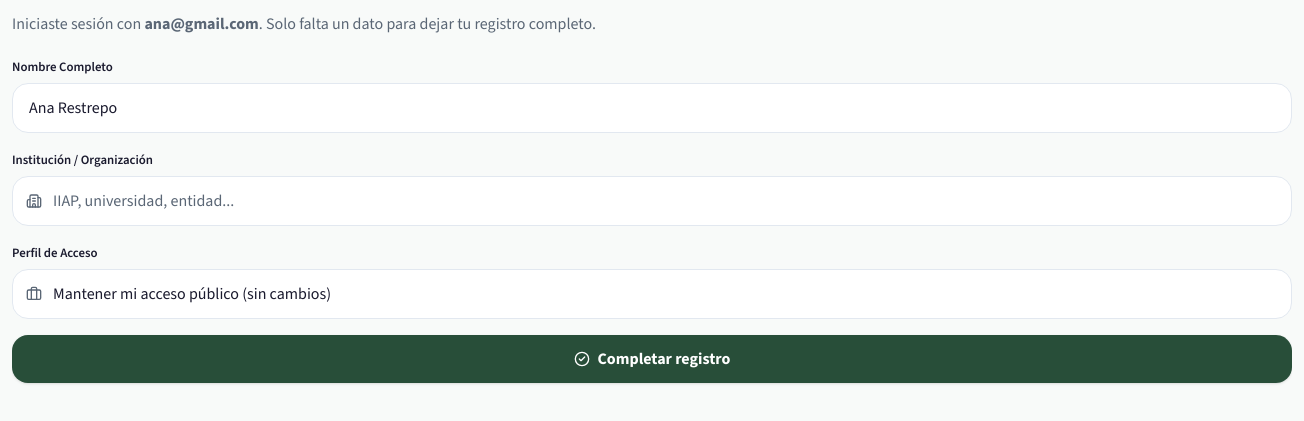
Test case: CompletarPerfilForm — envío › si completarPerfil() falla, se queda en el formulario y muestra el error
Type "IIAP" into the field labelled "Institución / Organización". click: (652, 201)
box: [12,176,1292,226]
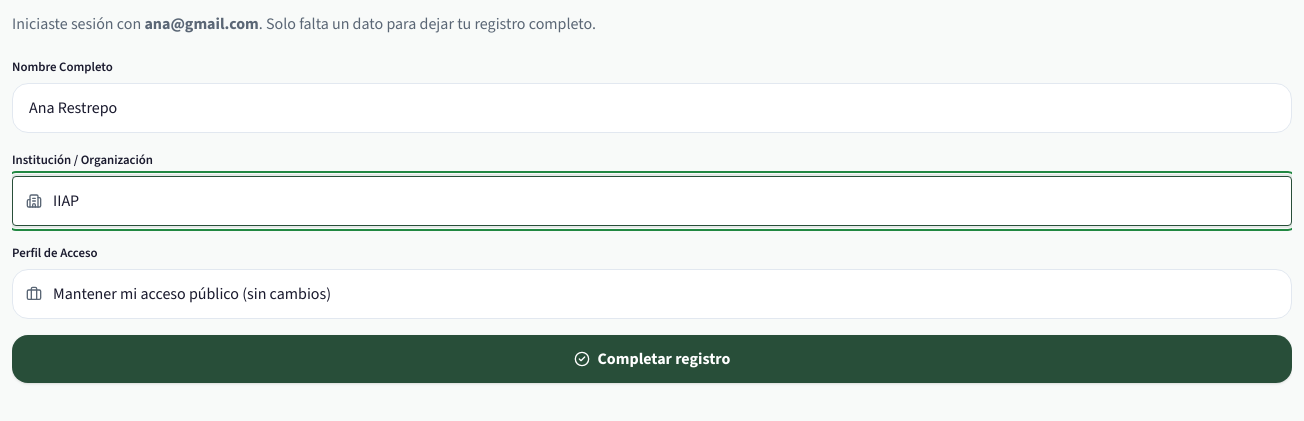
Click the button "Completar registro". click: click(652, 359)
box: [12,335,1292,383]
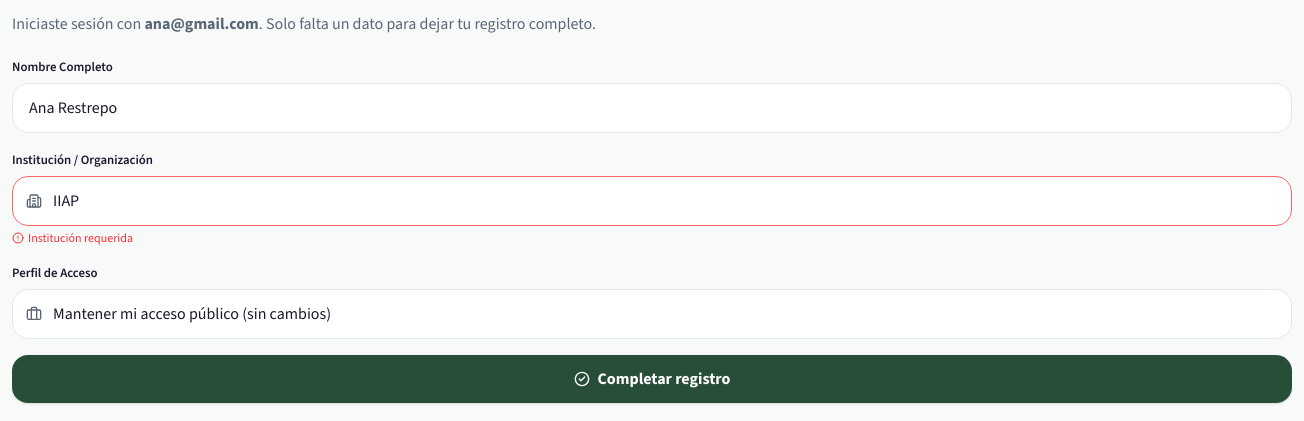
Expected: the text "Institución requerida" is shown, [12,230,133,246]
